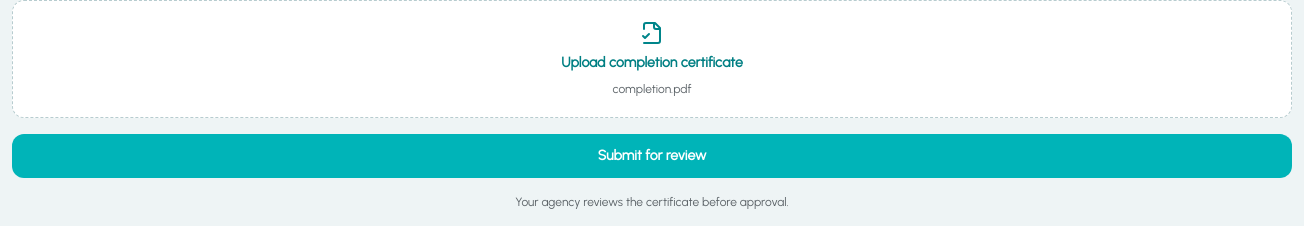
Scenario: private training certificate › keeps dashboard submission disabled until a valid certificate is selected
Earlier steps of the test are not shown.
Later steps or results of the test are not shown.
Expected: the text "completion.pdf" is shown, 612,81 -> 692,97
Click the button "Submit for review" at coordinates (652, 156), box 12,134 -> 1292,178
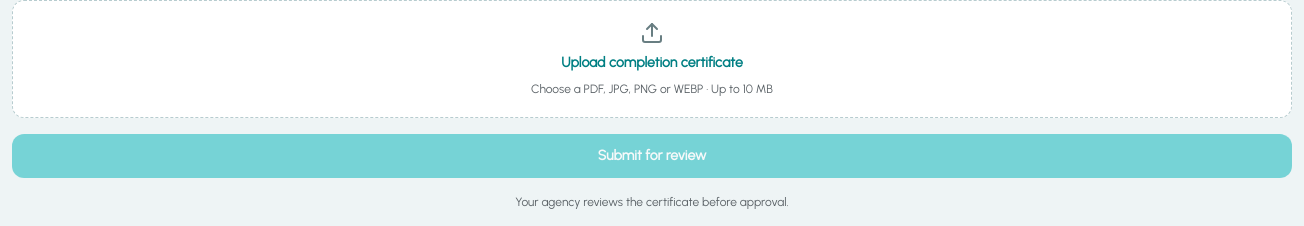
Expected: the button "Submit for review" is disabled, 12,134 -> 1292,178
